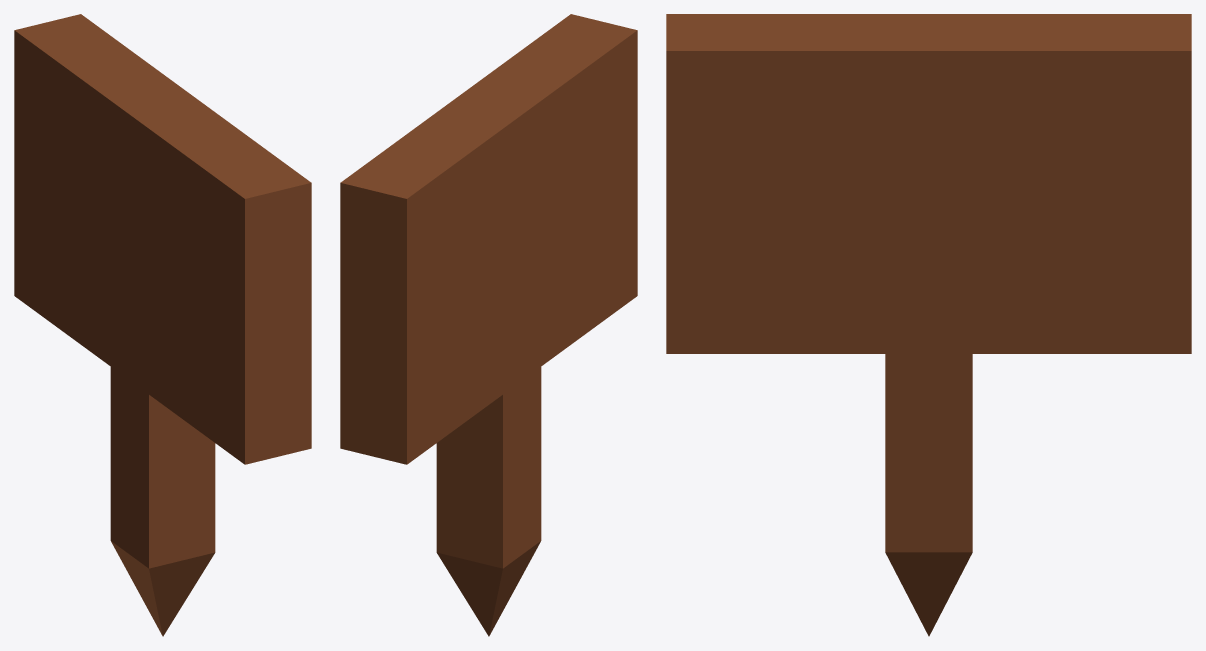
File: wood-sign.fbx
The picture shows the model from 3 angles, left to right: view 1: azimuth 30°, elevation 25°; view 2: azimuth 150°, elevation 25°; view 3: azimuth 270°, elevation 25°; orthographic projection. The views are drawn at different scales.
Visible parts, largest first — view 1: Cube; view 2: Cube; view 3: Cube.
Part boxes in pixels (x1=…): Cube: x1=14, y1=14, x2=311, y2=636; Cube: x1=340, y1=14, x2=637, y2=636; Cube: x1=666, y1=14, x2=1191, y2=636.
Bounding box in the file's own units: 80 × 609 × 480.
